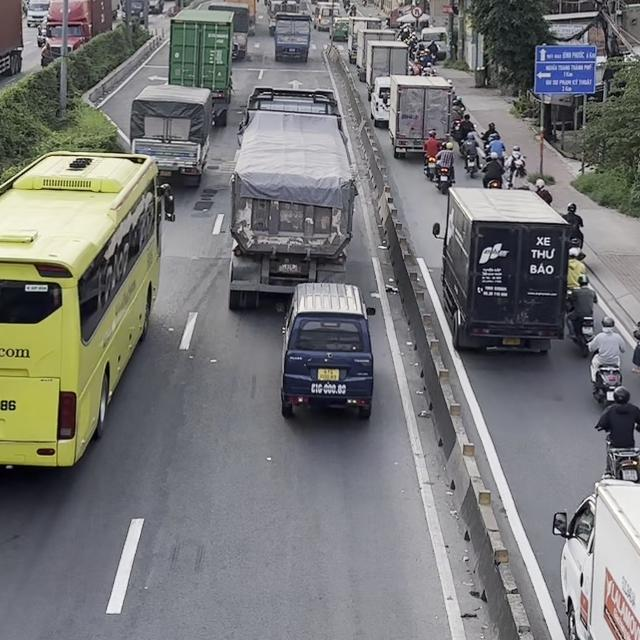bus: (0, 149, 175, 470)
car: (279, 281, 378, 419)
motorcycle: (601, 429, 639, 483), (566, 289, 594, 356), (590, 350, 623, 404), (434, 164, 455, 194), (422, 152, 438, 181), (463, 153, 478, 177)
truck: (228, 84, 359, 310), (432, 186, 570, 354), (552, 477, 639, 639), (128, 83, 214, 187), (167, 9, 234, 126), (388, 74, 454, 159), (365, 40, 410, 101), (207, 3, 249, 60), (273, 12, 312, 63), (345, 16, 382, 63)
